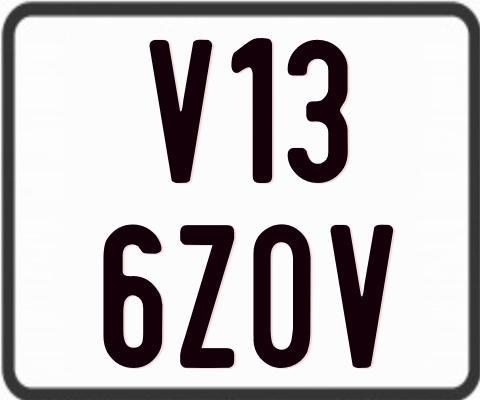0: (251, 222, 313, 369)
1: (231, 37, 273, 184)
3: (287, 37, 348, 180)
6: (101, 222, 164, 369)
V: (331, 223, 398, 370), (150, 37, 214, 181)
Z: (177, 222, 233, 370)
